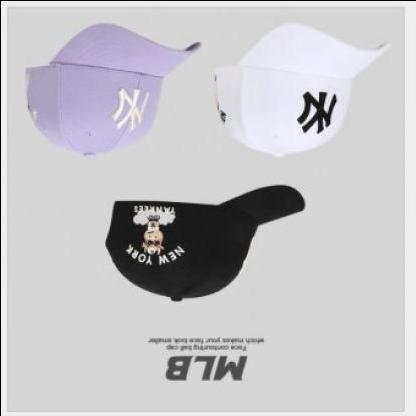cap: (98, 176, 314, 307)
